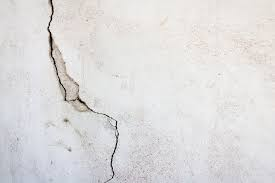crack: (44, 0, 118, 182)
